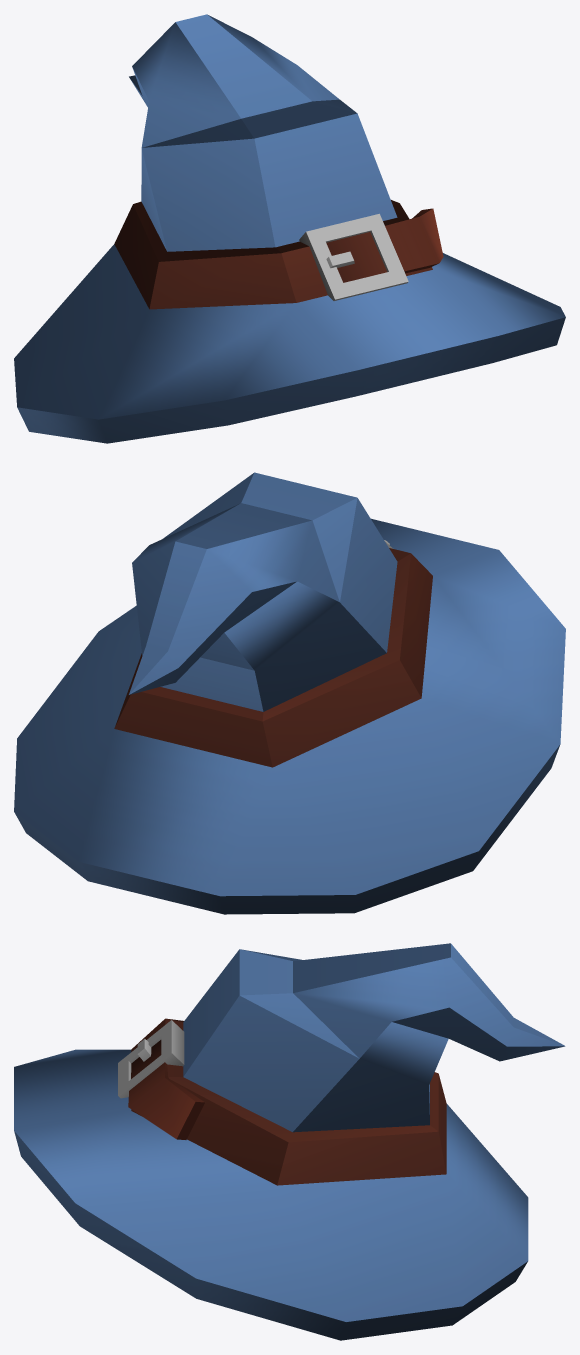
Rendered from MageHat_A.glb.
3 views of the same model, one above another, from view 1: azimuth 30°, elevation 25°; view 2: azimuth 150°, elevation 25°; view 3: azimuth 270°, elevation 25° (orthographic). The views are drawn at different scales.
Visible parts, largest first — view 1: MageHat_A; view 2: MageHat_A; view 3: MageHat_A.
Part boxes in pixels (left/top/right/bottom): MageHat_A: left=14, top=14, right=565, bottom=443; MageHat_A: left=14, top=472, right=565, bottom=914; MageHat_A: left=14, top=943, right=565, bottom=1340.
Size of the model in its own units: 0.536 by 0.363 by 0.6026.
1 material, 1 textured.
